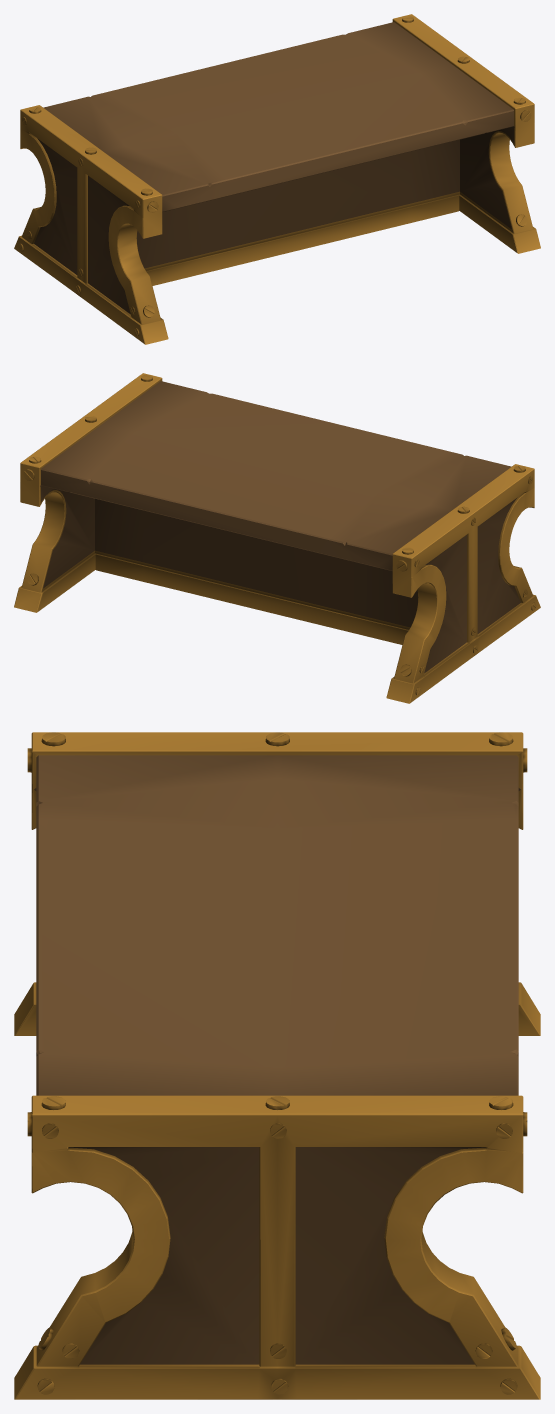
Rendered from obj_tableBig.FBX.
3 views of the same model, one above another, from view 1: azimuth 30°, elevation 25°; view 2: azimuth 150°, elevation 25°; view 3: azimuth 270°, elevation 25° (orthographic). The views are drawn at different scales.
Parts seen in each view (by area): view 1: obj_tableBig; view 2: obj_tableBig; view 3: obj_tableBig.
Boxes of the visible parts, x1,y1,x2,y2 form: obj_tableBig: (14,14,540,344); obj_tableBig: (14,373,540,703); obj_tableBig: (14,732,540,1399).
Size of the model in its own units: 5.71 by 1.97 by 3.27.
